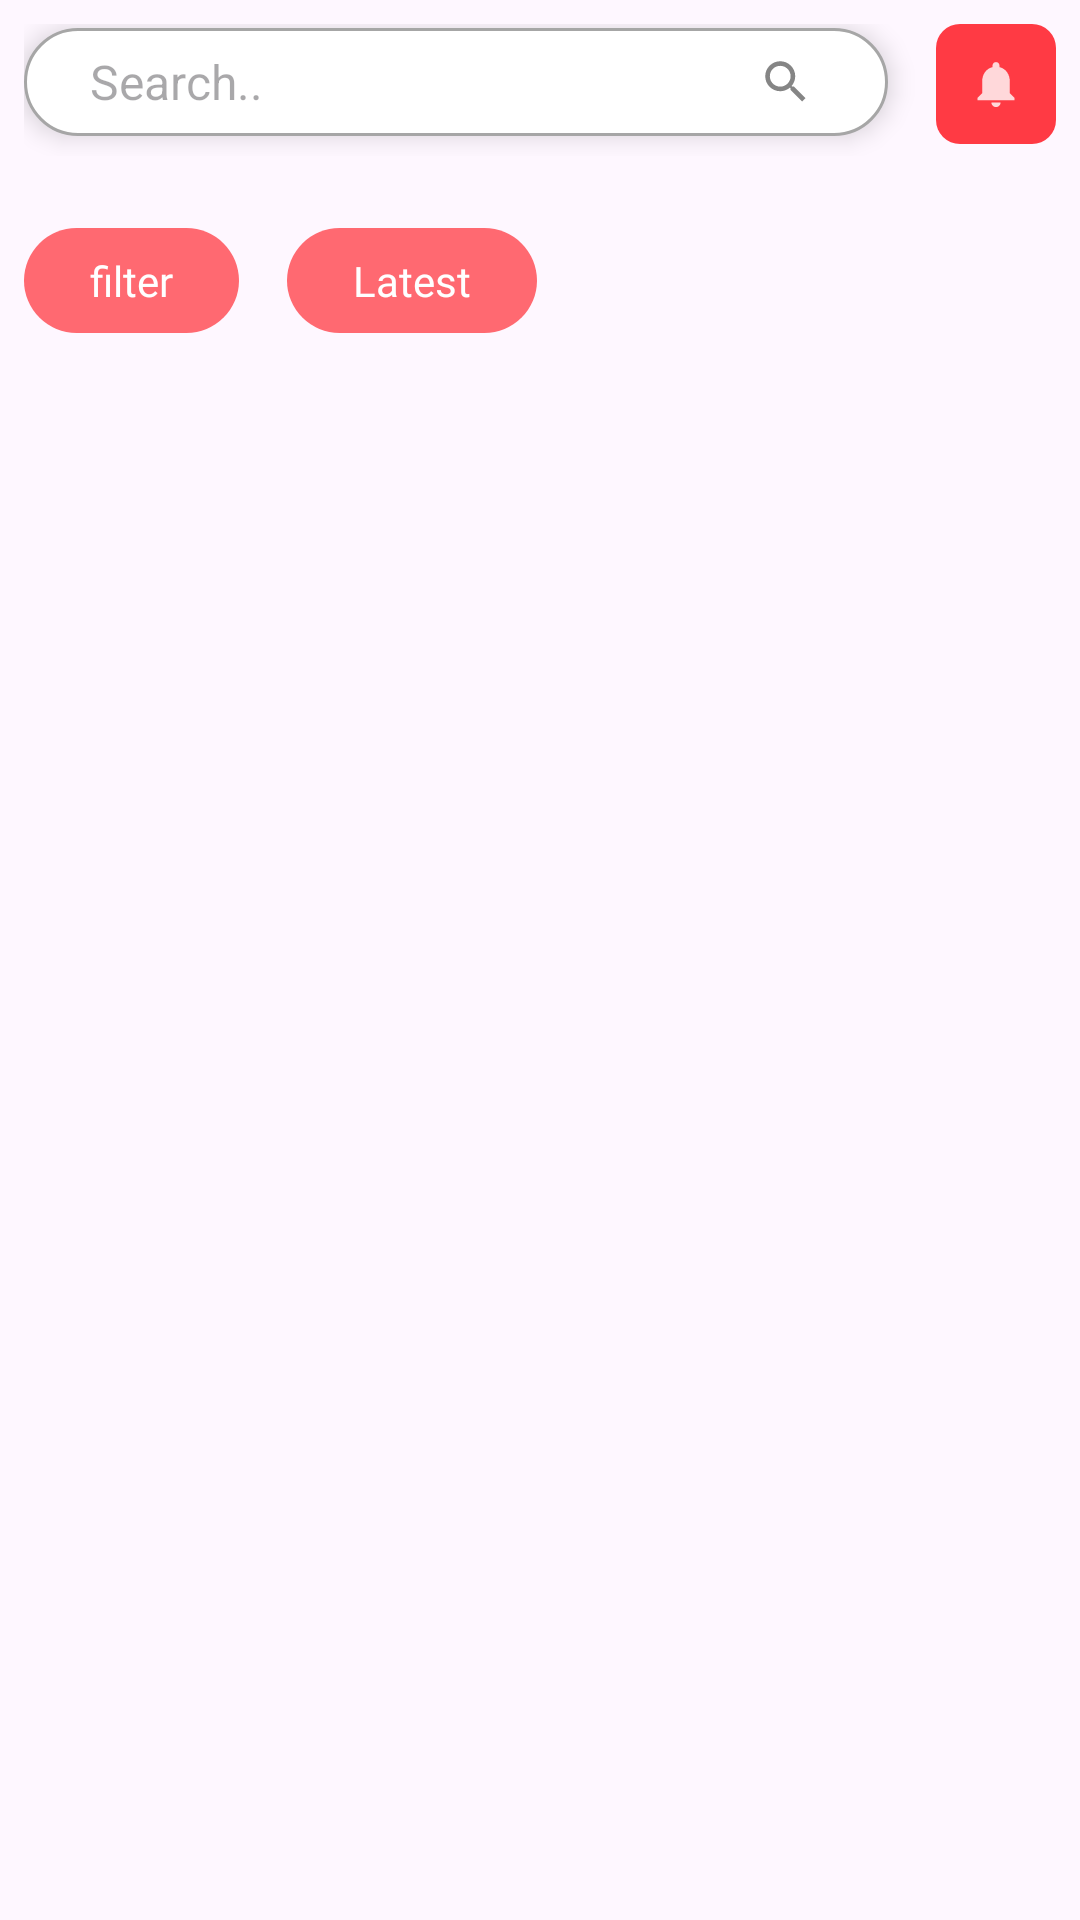

Icons on this 1080×1920 Android screen, each with its box as (x1, y1, x2, y2):
notification: (936, 24, 1056, 144)
